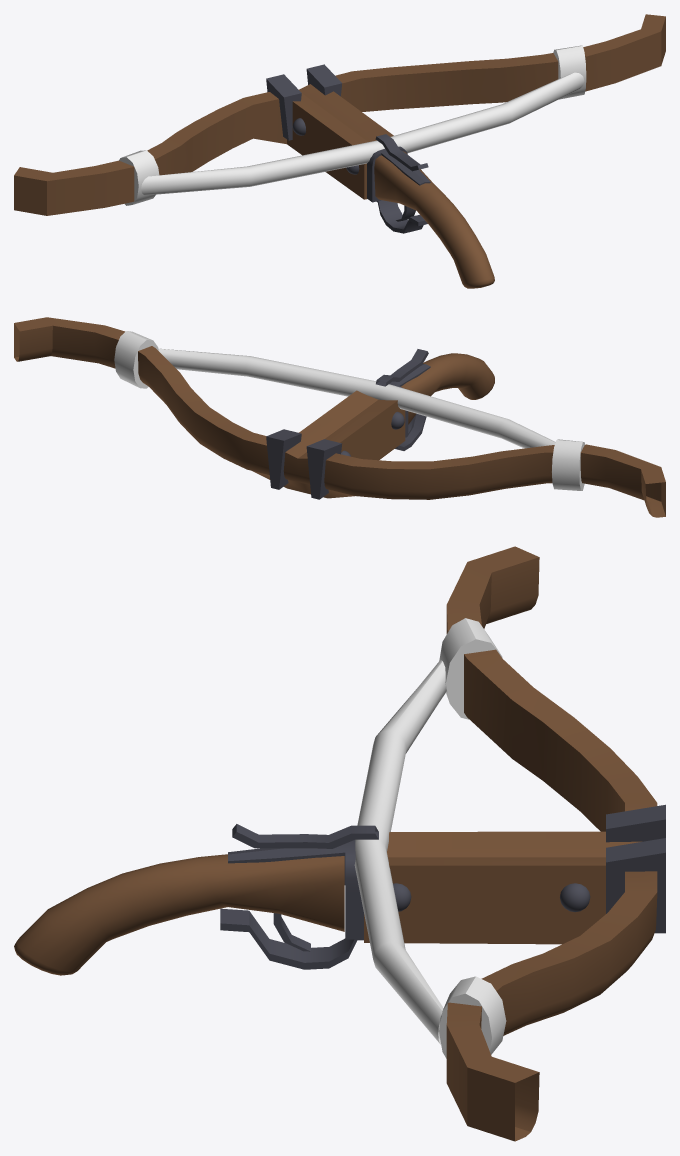
File: Crossbow.fbx
3 views of the same model, one above another, from view 1: azimuth 30°, elevation 25°; view 2: azimuth 150°, elevation 25°; view 3: azimuth 270°, elevation 25° (orthographic). The views are drawn at different scales.
Visible parts, largest first — view 1: HandRestingPoint.001, String, Handle.001, AimPoint_End.001, Triggers.001, SwivelClamp.001, Triggers.002; view 2: HandRestingPoint.001, String, Handle.001, AimPoint_End.001, Triggers.002, Triggers.001, SwivelClamp.001; view 3: HandRestingPoint.001, Handle.001, String, AimPoint_End.001, Triggers.001, SwivelClamp.001, Triggers.002.
Boxes of the visible parts, <box> form: HandRestingPoint.001: <box>14,14,665,215</box>; String: <box>119,45,586,205</box>; Handle.001: <box>374,151,494,288</box>; AimPoint_End.001: <box>266,64,342,140</box>; Triggers.001: <box>376,200,427,233</box>; SwivelClamp.001: <box>367,146,430,202</box>; Triggers.002: <box>375,134,428,171</box>; HandRestingPoint.001: <box>14,317,665,517</box>; String: <box>114,331,584,490</box>; Handle.001: <box>401,353,494,424</box>; AimPoint_End.001: <box>266,429,342,499</box>; Triggers.002: <box>376,349,428,386</box>; Triggers.001: <box>395,414,426,450</box>; SwivelClamp.001: <box>389,364,430,437</box>; HandRestingPoint.001: <box>364,546,657,1141</box>; Handle.001: <box>14,854,344,975</box>; String: <box>354,618,506,1058</box>; AimPoint_End.001: <box>606,804,665,933</box>; Triggers.001: <box>220,908,363,969</box>; SwivelClamp.001: <box>228,840,363,939</box>; Triggers.002: <box>232,824,378,848</box>.
Bounding box in the file's own units: 364 × 52.83 × 187.
